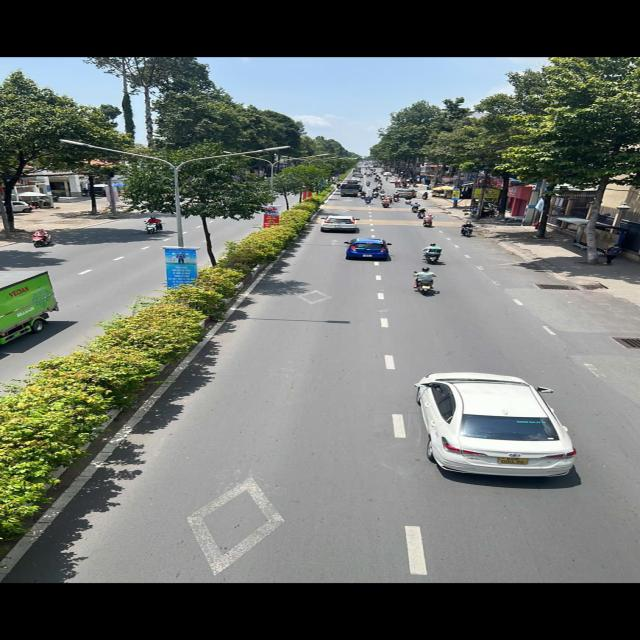ben: (332, 182, 365, 198)
car: (414, 372, 584, 481), (341, 233, 398, 265), (315, 214, 366, 234), (394, 187, 419, 200)
motobyte: (410, 266, 446, 296), (24, 226, 61, 251), (138, 214, 171, 236), (417, 242, 447, 264), (460, 219, 482, 239), (419, 212, 439, 228)
